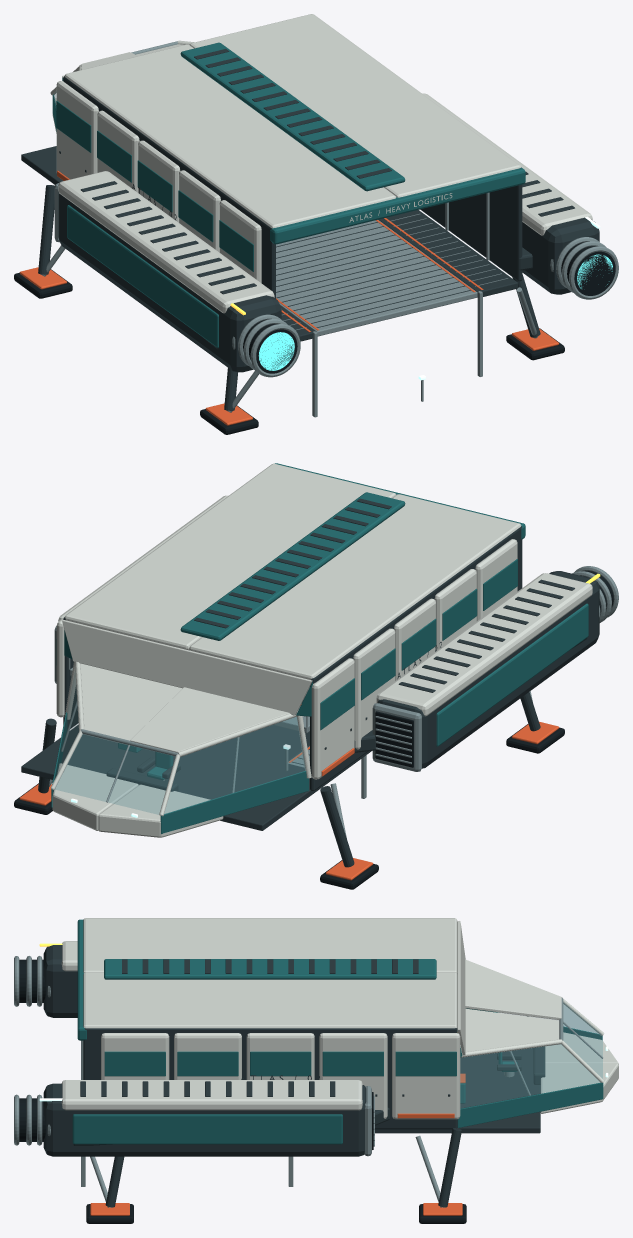
Rendered from atlas.glb.
The picture shows the model from 3 angles, top to bottom: view 1: azimuth 30°, elevation 25°; view 2: azimuth 150°, elevation 25°; view 3: azimuth 270°, elevation 25°; orthographic projection. The views are drawn at different scales.
Parts seen in each view (by area): view 1: Hull / Ceramic / warm ivory, Hull / Titanium / graphite, Hull / Survey / deep petrol, MainLift / Machined alloy, Hull / Machined alloy, MainLift / Titanium / graphite, Hull / Gaskets / rubber, Hull / Drive / ion blue, LandingGear_-1_-8 / Titanium / graphite, LandingGear_1_8 / Gaskets / rubber, LandingGear_-1_-8 / Gaskets / rubber, LandingGear_-1_8 / Gaskets / rubber (+3 smaller); view 2: Hull / Ceramic / warm ivory, Hull / Titanium / graphite, Hull / Survey / deep petrol, Hull / Canopy glass, Hull / Machined alloy, Hull / Gaskets / rubber, LandingGear_-1_-8 / Titanium / graphite, LandingGear_-1_8 / Gaskets / rubber, LandingGear_-1_-8 / Gaskets / rubber; view 3: Hull / Ceramic / warm ivory, Hull / Survey / deep petrol, Hull / Titanium / graphite, Hull / Canopy glass, Hull / Machined alloy, Hull / Gaskets / rubber, LandingGear_1_-8 / Titanium / graphite, LandingGear_1_8 / Titanium / graphite, LandingGear_1_8 / Gaskets / rubber, LandingGear_1_-8 / Gaskets / rubber, LandingGear_1_-8 / Rescue / vermilion, LandingGear_1_8 / Rescue / vermilion.
Part boxes in pixels (<box>): Hull / Ceramic / warm ivory: <box>50,14,592,313</box>; Hull / Titanium / graphite: <box>21,49,599,372</box>; Hull / Survey / deep petrol: <box>52,42,525,347</box>; MainLift / Machined alloy: <box>276,220,477,336</box>; Hull / Machined alloy: <box>54,41,618,417</box>; MainLift / Titanium / graphite: <box>276,222,470,327</box>; Hull / Gaskets / rubber: <box>243,242,615,373</box>; Hull / Drive / ion blue: <box>258,254,612,370</box>; LandingGear_-1_-8 / Titanium / graphite: <box>38,185,54,274</box>; LandingGear_1_8 / Gaskets / rubber: <box>506,328,564,360</box>; LandingGear_-1_-8 / Gaskets / rubber: <box>14,269,72,298</box>; LandingGear_-1_8 / Gaskets / rubber: <box>200,405,258,434</box>; Hull / Ceramic / warm ivory: <box>50,463,592,837</box>; Hull / Titanium / graphite: <box>21,498,599,830</box>; Hull / Survey / deep petrol: <box>51,463,588,833</box>; Hull / Canopy glass: <box>54,672,305,814</box>; Hull / Machined alloy: <box>54,566,618,802</box>; Hull / Gaskets / rubber: <box>375,571,613,767</box>; LandingGear_-1_-8 / Titanium / graphite: <box>320,786,354,867</box>; LandingGear_-1_8 / Gaskets / rubber: <box>506,724,564,753</box>; LandingGear_-1_-8 / Gaskets / rubber: <box>320,860,378,889</box>; Hull / Ceramic / warm ivory: <box>61,918,618,1119</box>; Hull / Survey / deep petrol: <box>72,919,603,1144</box>; Hull / Titanium / graphite: <box>43,945,545,1156</box>; Hull / Canopy glass: <box>460,1003,602,1107</box>; Hull / Machined alloy: <box>14,956,603,1186</box>; Hull / Gaskets / rubber: <box>19,959,373,1149</box>; LandingGear_1_-8 / Titanium / graphite: <box>438,1128,461,1207</box>; LandingGear_1_8 / Titanium / graphite: <box>105,1156,124,1207</box>; LandingGear_1_8 / Gaskets / rubber: <box>86,1204,133,1223</box>; LandingGear_1_-8 / Gaskets / rubber: <box>419,1204,466,1223</box>; LandingGear_1_-8 / Rescue / vermilion: <box>423,1203,462,1215</box>; LandingGear_1_8 / Rescue / vermilion: <box>90,1203,129,1215</box>.
Size of the model in its own units: 18.46 by 9.79 by 29.1.
